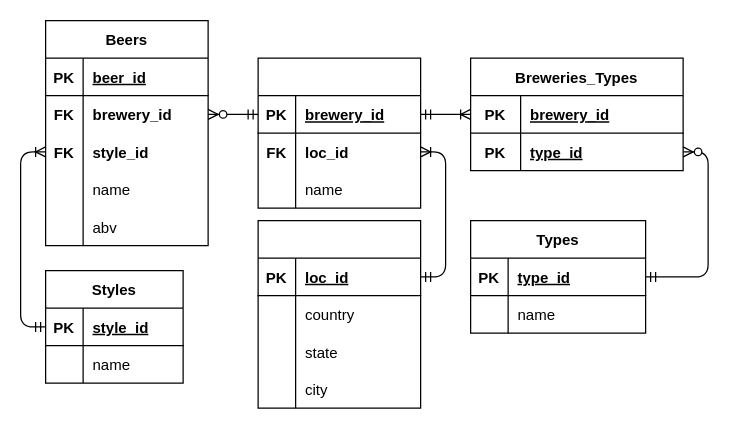
The diagram is 729 pixels wide and 429 high, and some of its shapes have lost their labels. Here are the shapes that lost their labels. From the top down, the box of each, then its label:
(257, 57, 421, 208): Breweries
(257, 219, 421, 408): Locations
